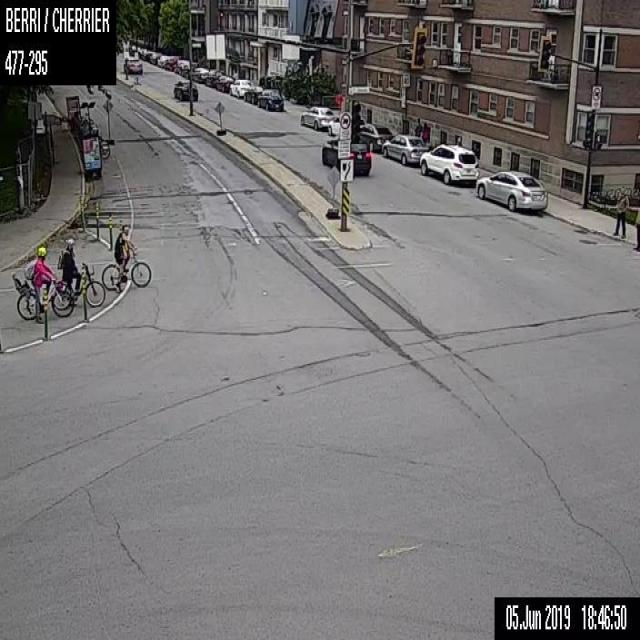construction: (326, 163, 338, 217), (102, 98, 114, 146), (213, 100, 226, 135), (78, 193, 86, 231), (43, 285, 47, 340), (81, 275, 86, 317), (95, 200, 100, 240), (107, 211, 112, 249)
cyclist: (11, 246, 74, 323), (51, 238, 105, 306), (101, 224, 152, 292)
pedestrian: (611, 185, 628, 238), (630, 207, 639, 251)
vehicle: (475, 170, 547, 211), (419, 143, 478, 184), (321, 136, 371, 174), (381, 134, 428, 164), (358, 123, 392, 150), (300, 105, 334, 128), (257, 88, 283, 110), (172, 79, 198, 101), (229, 78, 252, 96), (243, 85, 263, 104), (123, 56, 142, 73), (214, 75, 234, 91), (180, 62, 198, 78), (204, 70, 221, 85), (327, 114, 339, 134), (192, 67, 208, 81), (173, 59, 188, 72), (164, 55, 177, 69), (149, 52, 161, 63), (156, 55, 166, 66)
